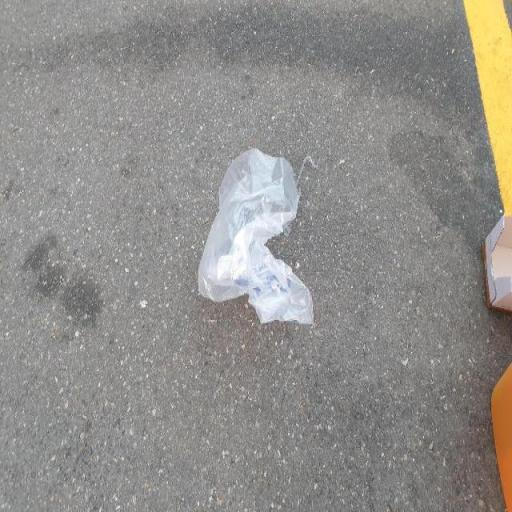plastic-bag: (196, 148, 318, 327)
